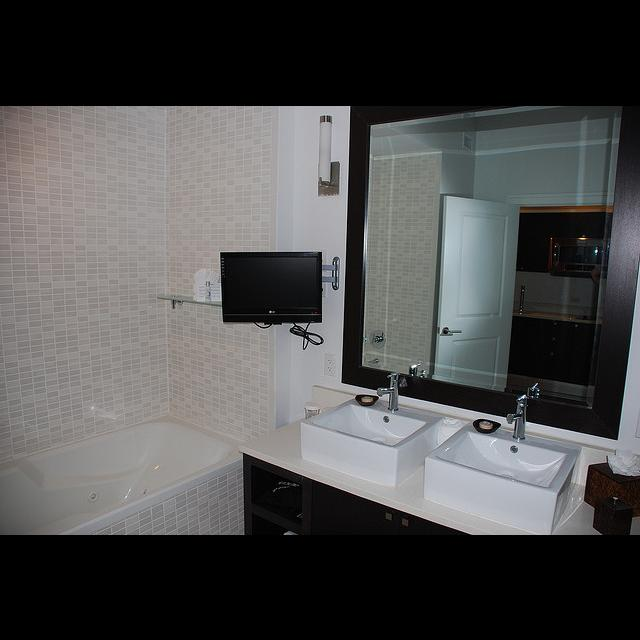Microwave: (550, 235, 612, 277)
